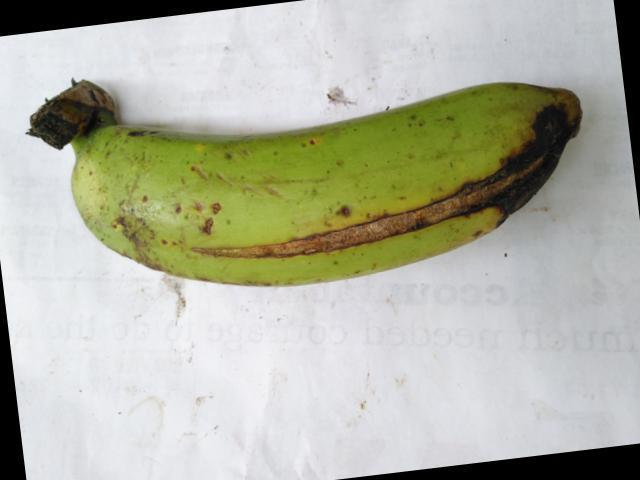rotten: (179, 174, 510, 271), (447, 75, 602, 268)
